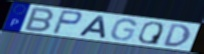A: (77, 15, 108, 39)
B: (23, 7, 57, 33)
D: (162, 23, 192, 48)
G: (109, 18, 138, 42)
P: (51, 9, 84, 36)
Q: (137, 21, 165, 46)
